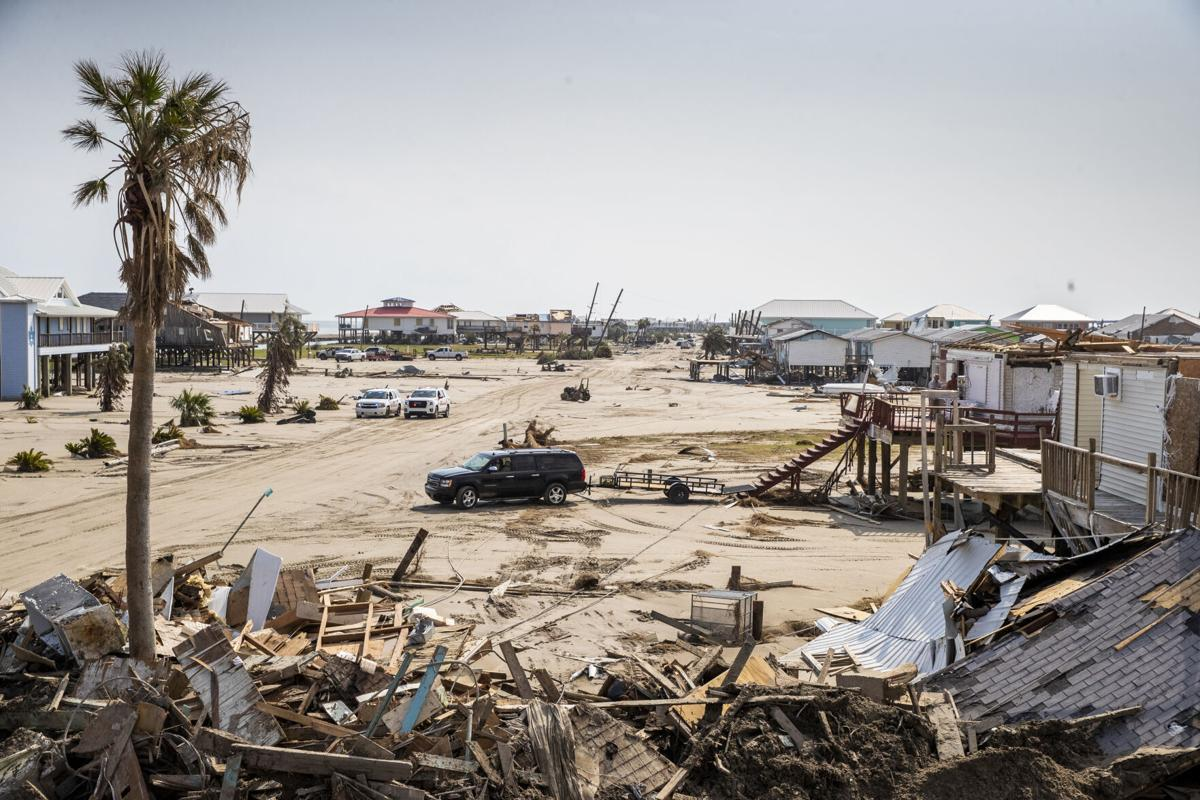major: (726, 316, 1200, 644)
